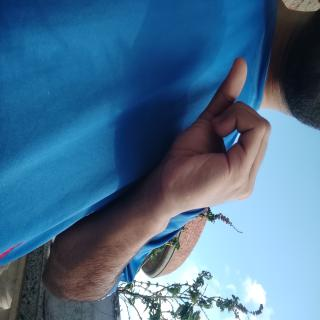WAW: (41, 57, 166, 228)
